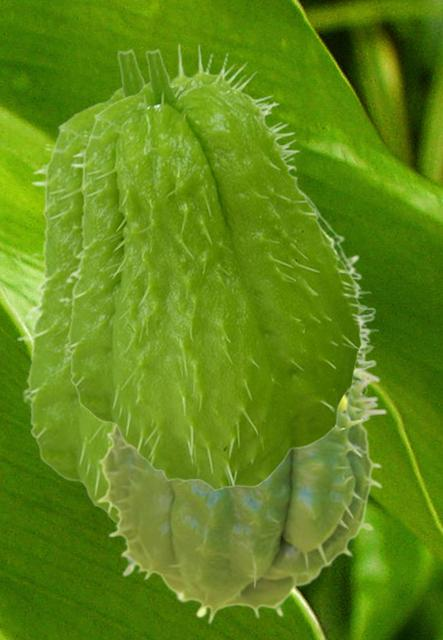sayote: (16, 42, 377, 523), (58, 43, 370, 490), (95, 191, 386, 624)
